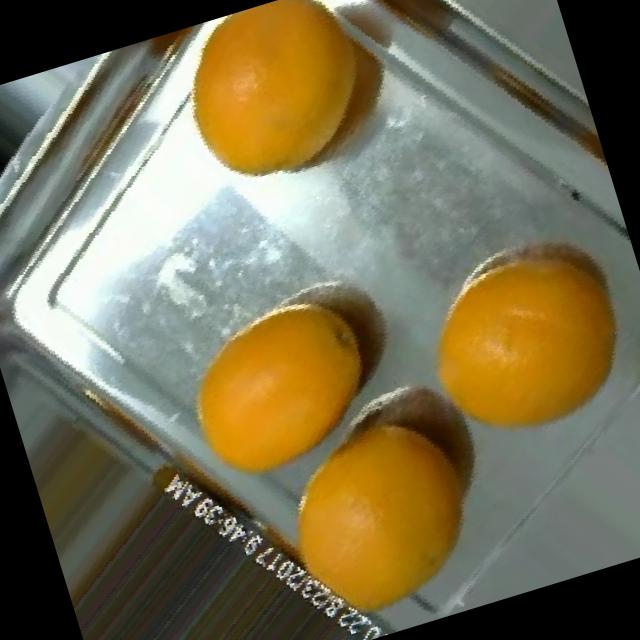Fruit: (134, 259, 412, 516), (0, 87, 32, 258)
